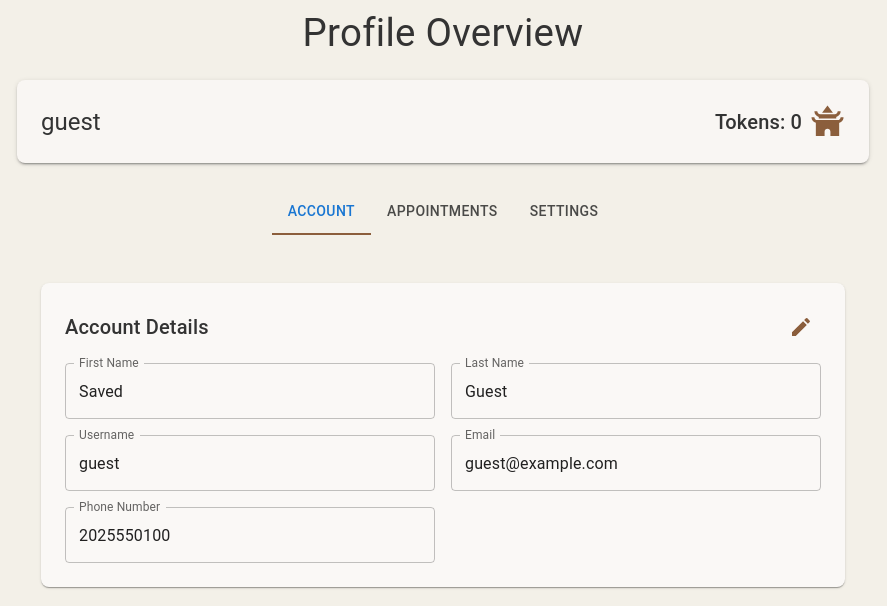
Scenario: excludes past confirmed visits from upcoming appointments
Click the tab "Appointments". click: (442, 211)
box: [371,187,514,235]
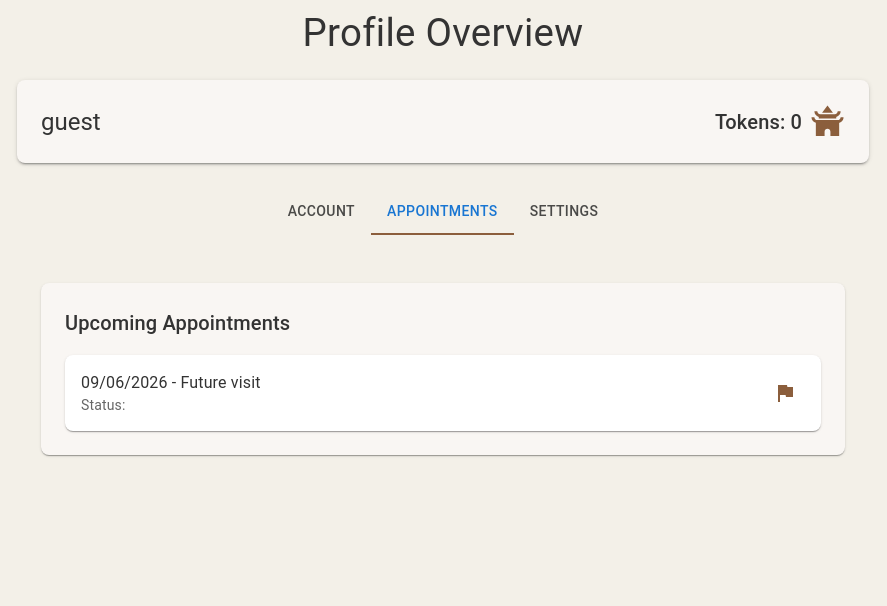
expect the text "09/06/2026 - Future visit" is shown: met, box [81,371,261,395]
